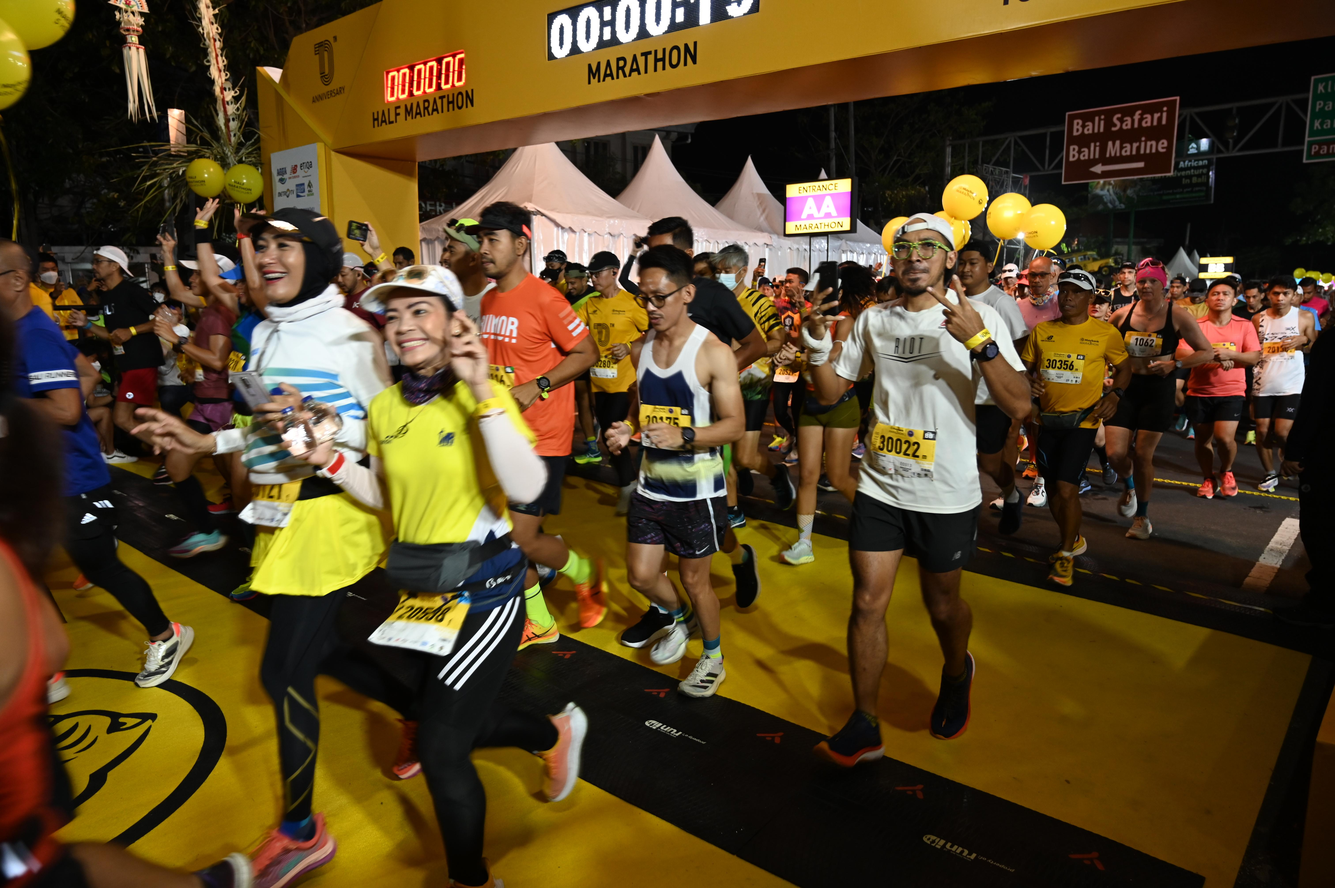bib: (373, 589, 471, 658), (873, 425, 936, 480), (243, 482, 300, 531), (637, 403, 689, 450), (1041, 351, 1082, 384), (1123, 330, 1162, 357), (487, 363, 515, 393), (590, 356, 617, 379), (1262, 342, 1295, 360), (225, 352, 245, 378), (775, 363, 799, 384)
